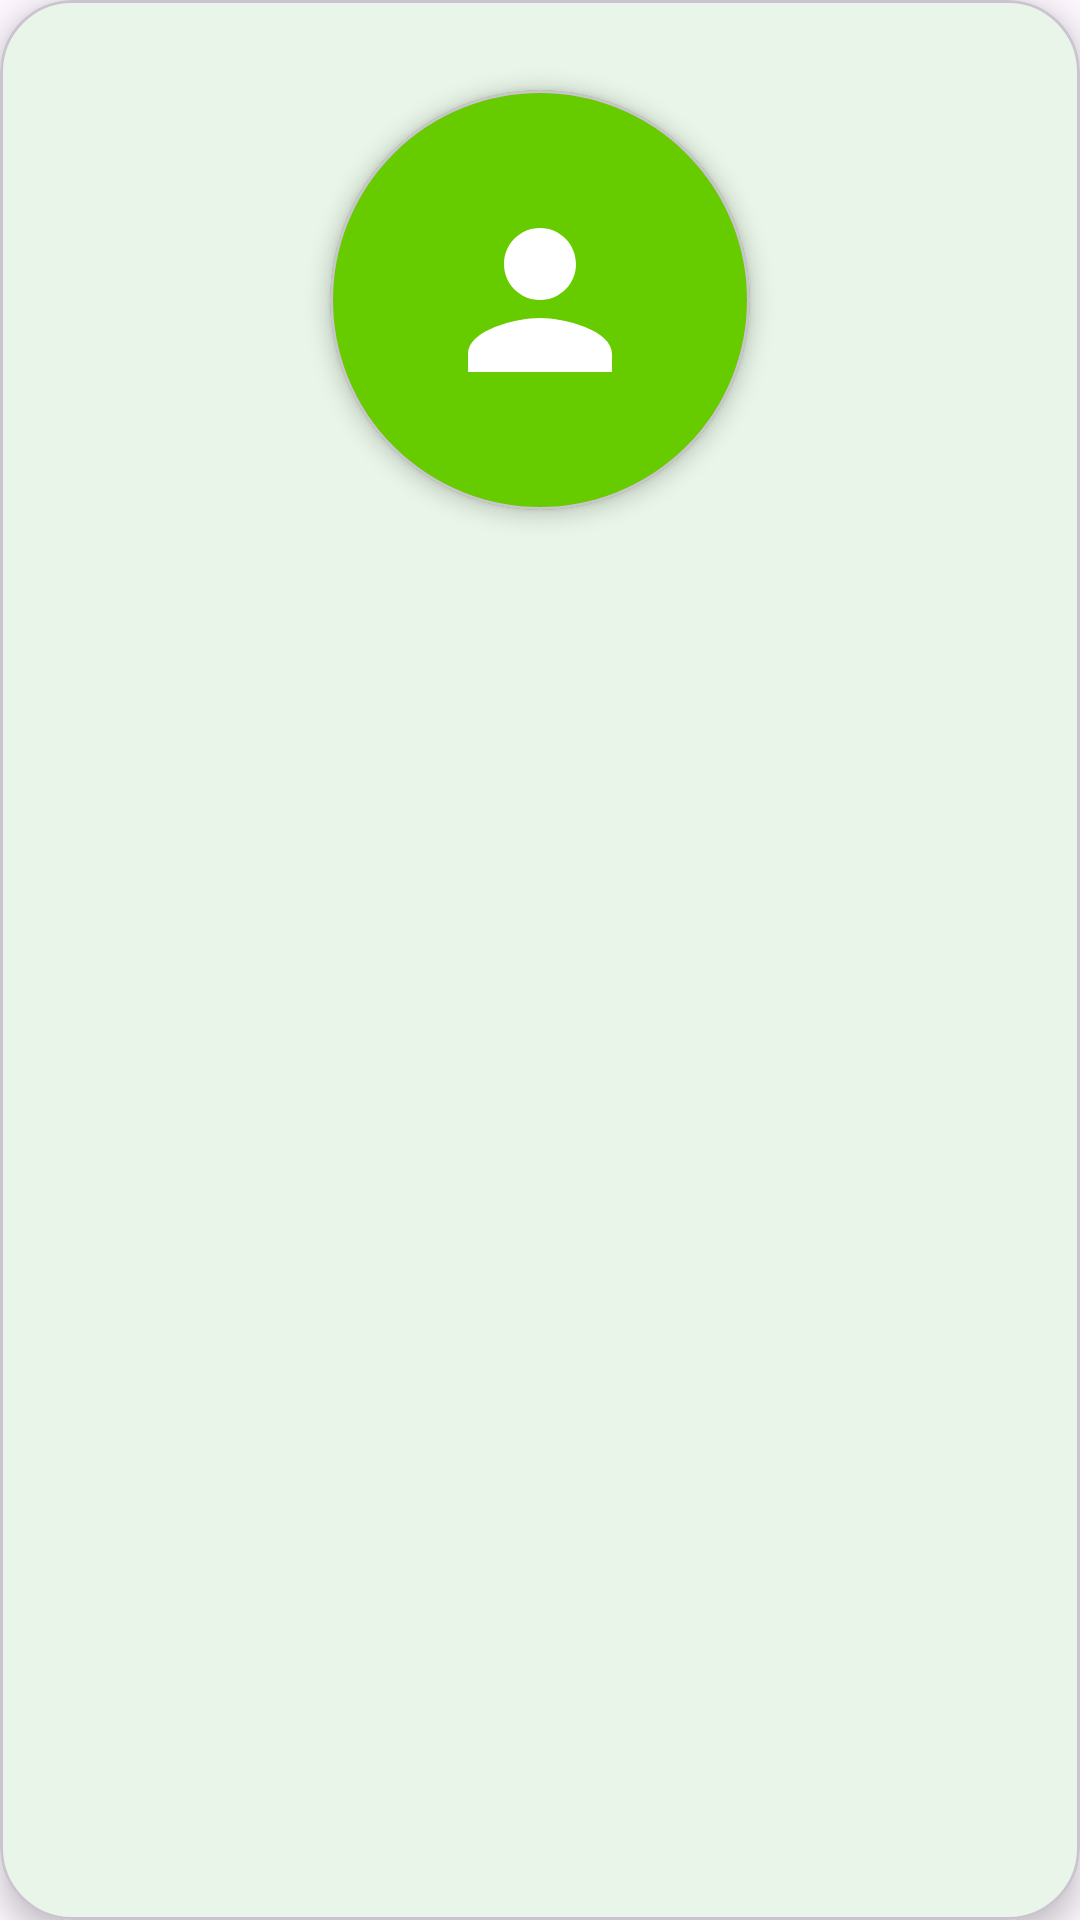

Icons on this 1080x1920 Android screen, each with the point to tap as [x,y]:
person: [540,300]
